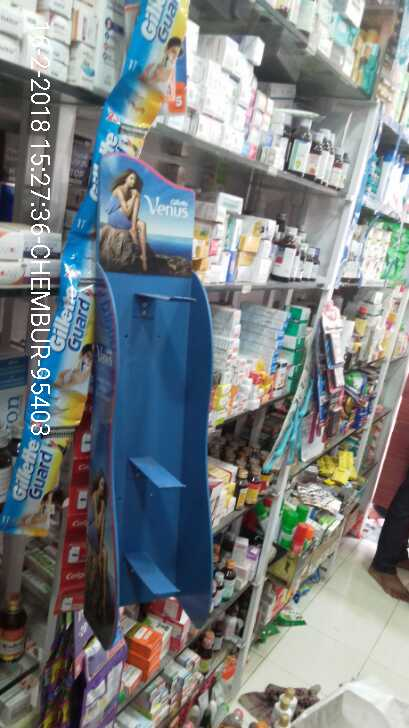gillette: (37, 252, 104, 428), (1, 428, 68, 538)
